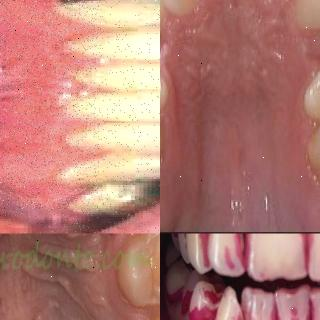Gum Swelling: (38, 0, 90, 220)
calculus: (64, 160, 104, 186), (78, 192, 108, 220), (70, 34, 108, 56), (78, 66, 104, 93)
cavities: (55, 0, 106, 16), (118, 0, 160, 8), (160, 152, 173, 176)
maligned: (212, 288, 247, 320), (160, 0, 204, 16)
